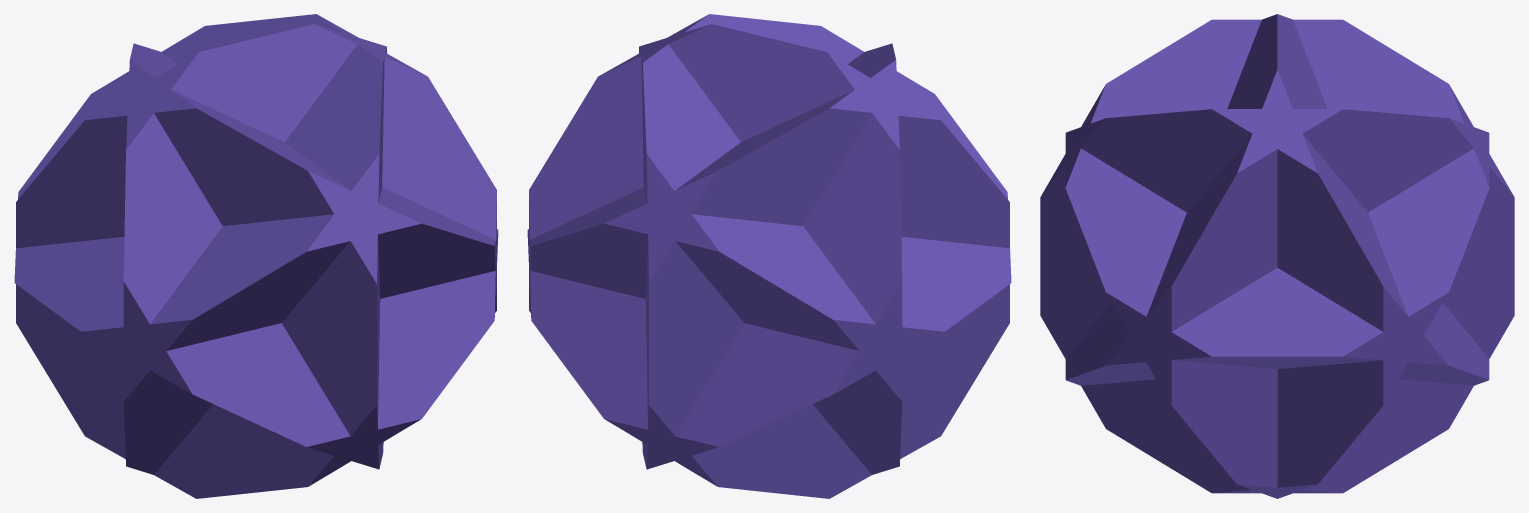
Rendered from battery.fbx.
3 renders of one model, left to right at view 1: azimuth 30°, elevation 25°; view 2: azimuth 150°, elevation 25°; view 3: azimuth 270°, elevation 25°, orthographic.
Parts seen in each view (by area): view 1: Truncated Great Dodecahedron_14; view 2: Truncated Great Dodecahedron_14; view 3: Truncated Great Dodecahedron_14.
Boxes of the visible parts, box(x1,y1,x2,y2) form: Truncated Great Dodecahedron_14: box(14, 14, 498, 498); Truncated Great Dodecahedron_14: box(527, 14, 1011, 498); Truncated Great Dodecahedron_14: box(1040, 14, 1514, 498).
Bounding box in the file's own units: 2.65 × 2.65 × 2.65.
